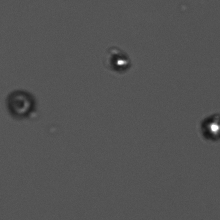Dead Cell: (7, 88, 35, 119)
Living Cell: (106, 48, 132, 73), (201, 115, 219, 139)
